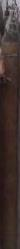cylinder: (0, 1, 20, 249)
